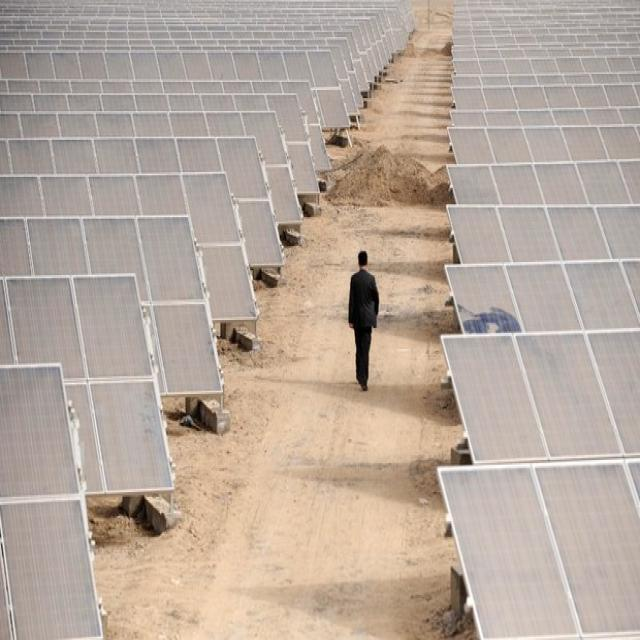dust-solar-panel: (0, 0, 417, 640), (438, 0, 640, 640)
